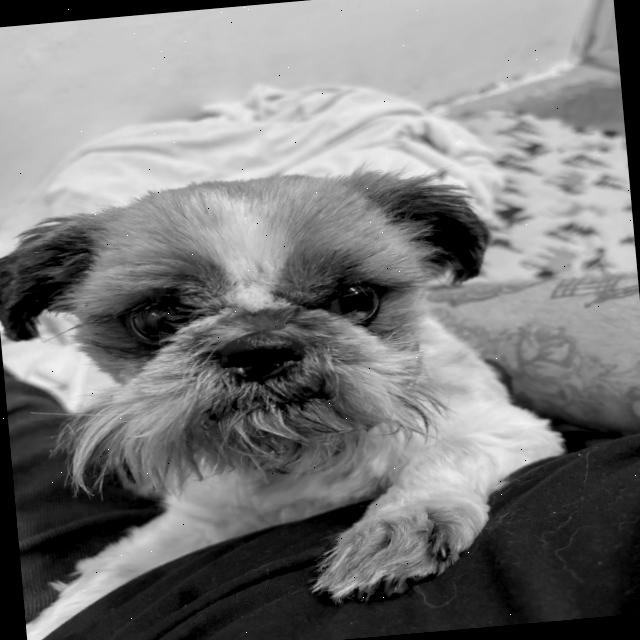shih_tzu_dog: (0, 139, 504, 494)
